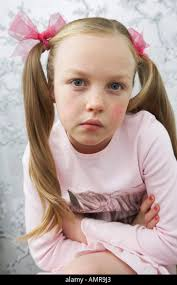person: (48, 18, 136, 148)
